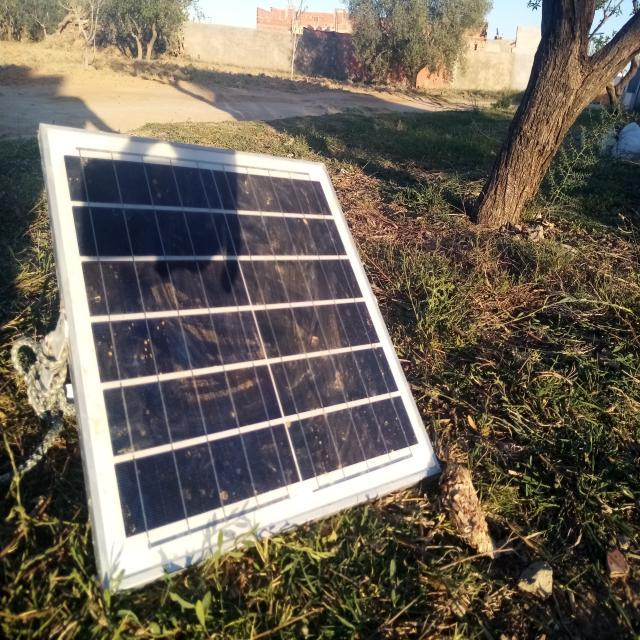faulty: (45, 127, 435, 589)
